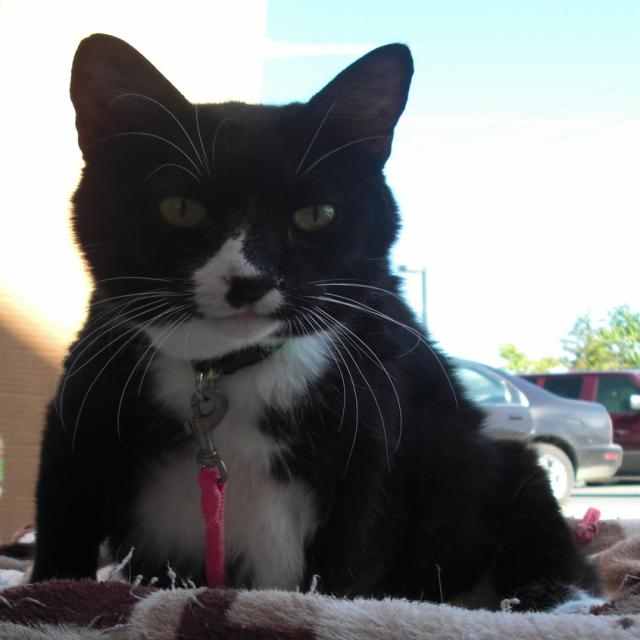Cat: (26, 28, 607, 612)
